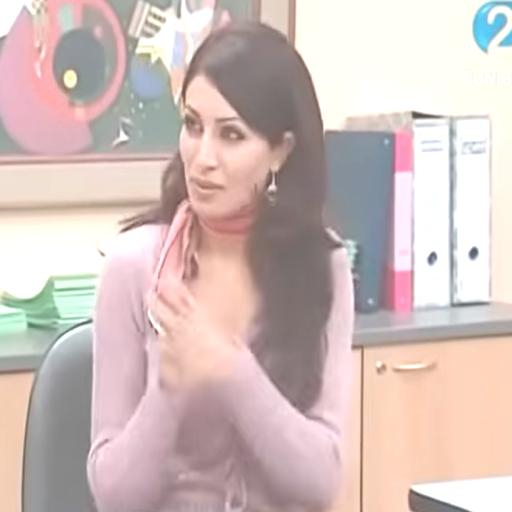Dalanda: (143, 23, 344, 229)
